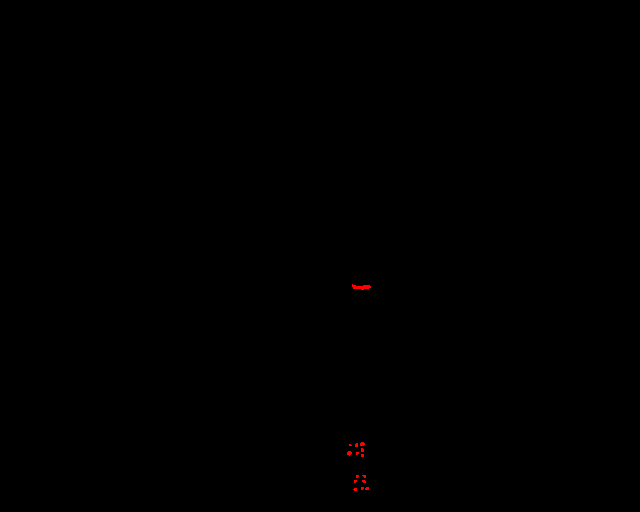Target: (352, 284, 371, 290), (347, 451, 352, 456), (360, 442, 365, 446), (355, 443, 358, 447), (361, 448, 364, 452), (362, 475, 366, 478), (362, 480, 366, 483), (365, 487, 369, 490), (353, 488, 357, 491), (356, 452, 359, 455), (361, 454, 364, 457), (356, 475, 359, 478), (354, 480, 357, 483), (361, 487, 364, 490), (349, 444, 352, 446)
